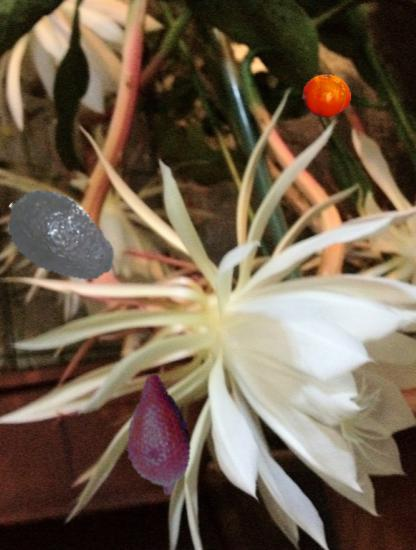Avocado: (0, 178, 120, 298)
Clementine: (301, 71, 352, 122)
Salak: (94, 373, 219, 498)
